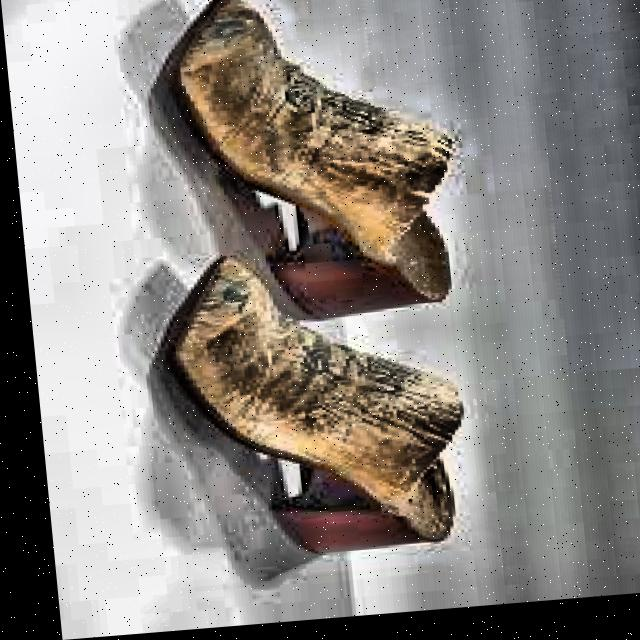shoes: (82, 0, 531, 607)
